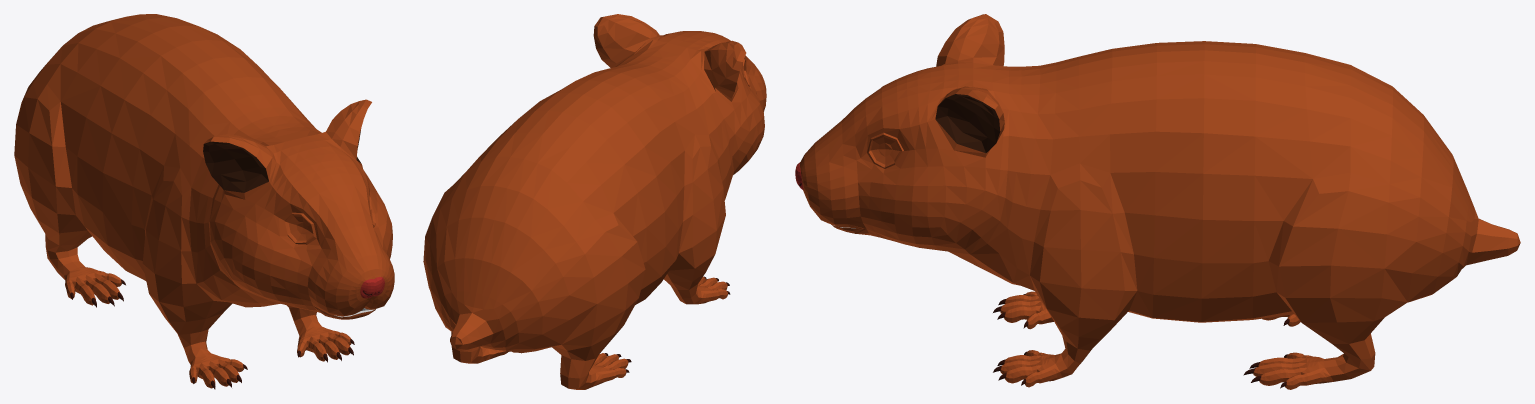
File: hamster_hamster.obj
3 renders of one model, left to right at view 1: azimuth 30°, elevation 25°; view 2: azimuth 150°, elevation 25°; view 3: azimuth 270°, elevation 25°, orthographic. The views are drawn at different scales.
Bounding box in the file's own units: 0.0654 × 0.0783 × 0.1736.
